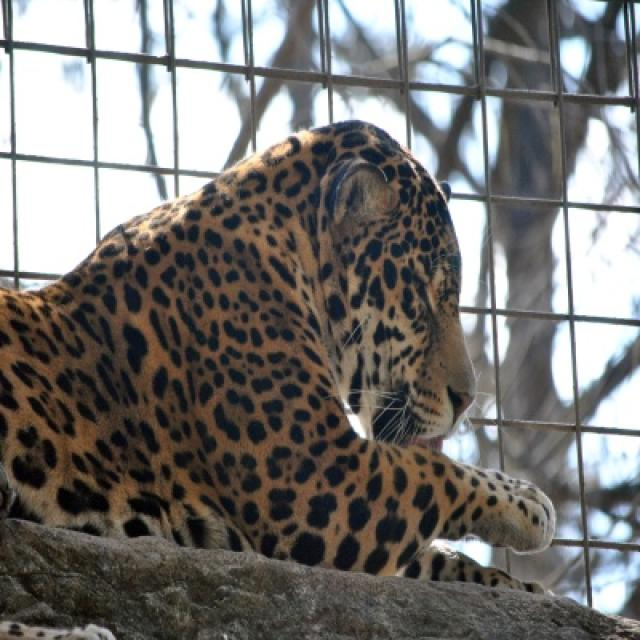Jaguar: (0, 120, 554, 584)
